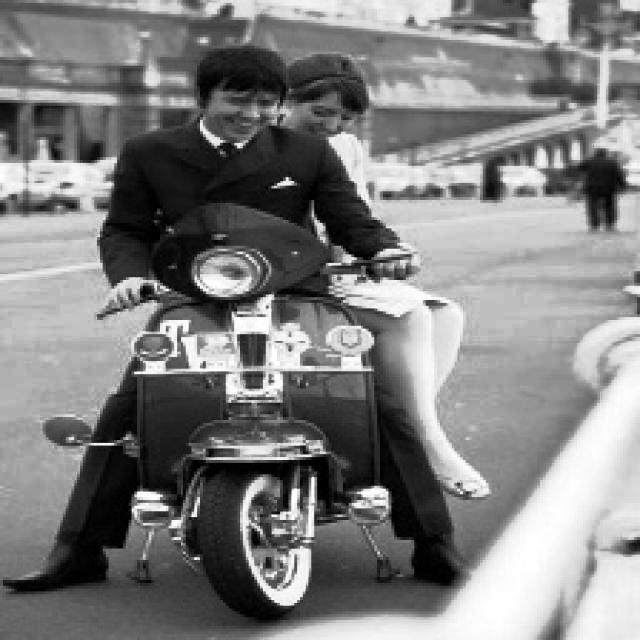Bike: (123, 248, 411, 610)
